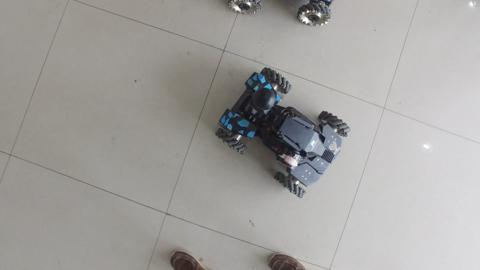chariot: (210, 59, 358, 203)
